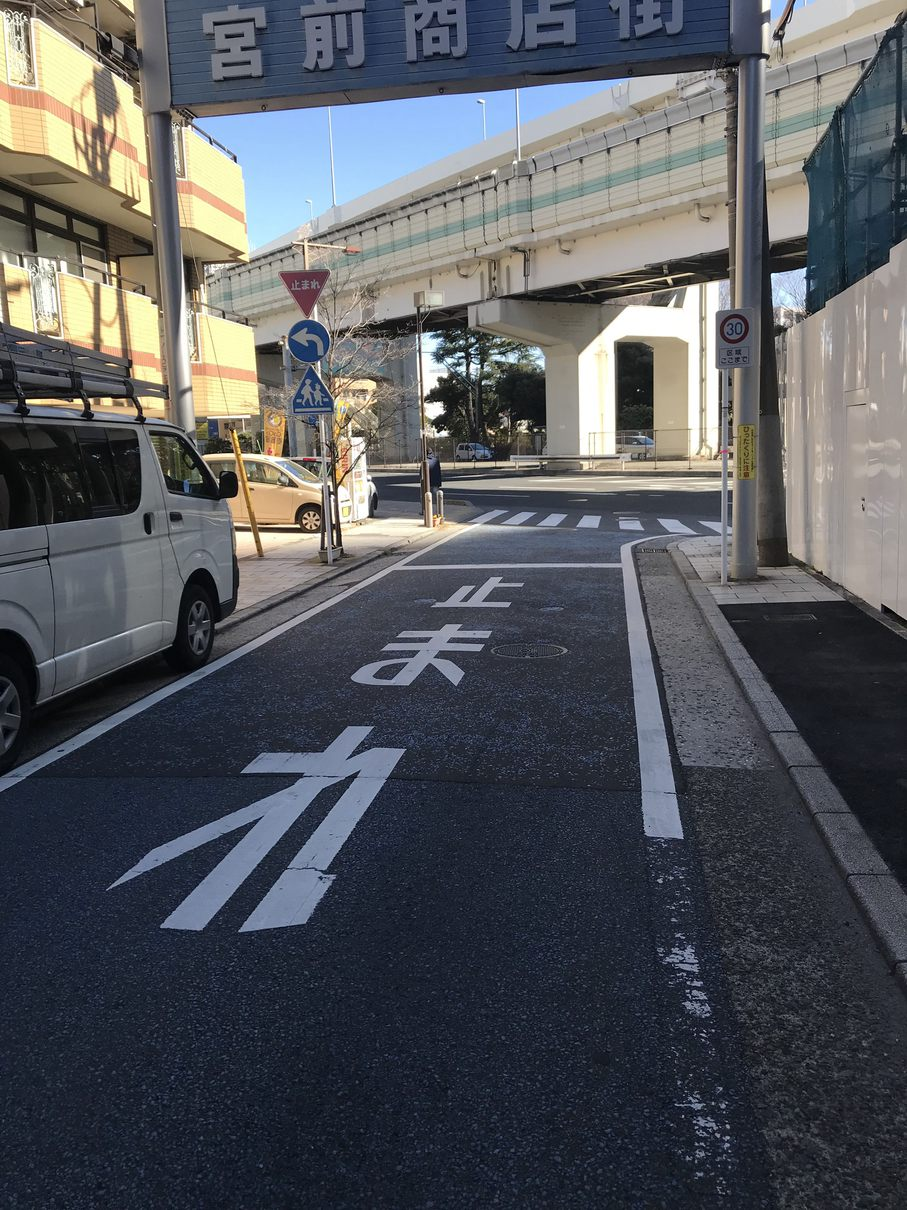stop_sign: (276, 266, 331, 319)
